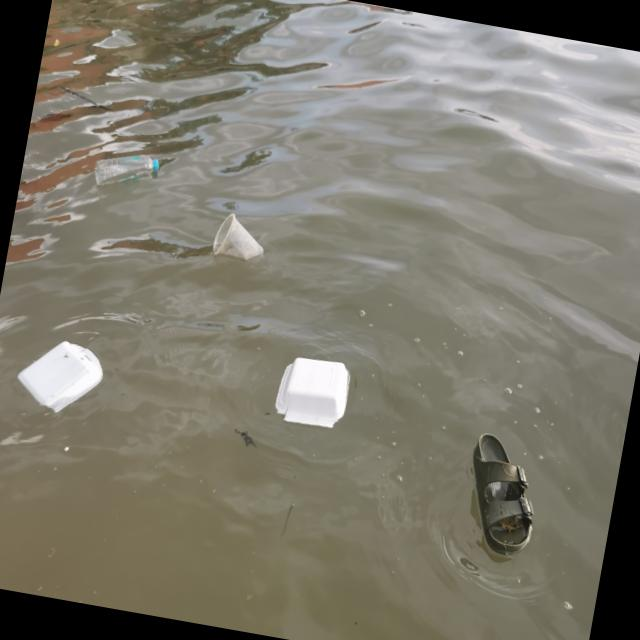foam: (10, 332, 110, 424), (272, 352, 354, 433)
plastic: (88, 146, 161, 197)
plastic bottle: (211, 211, 270, 263)
unknow: (457, 428, 548, 558)
